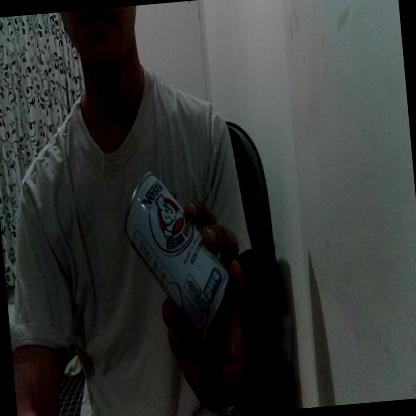alumunium_can: (122, 160, 234, 340)
